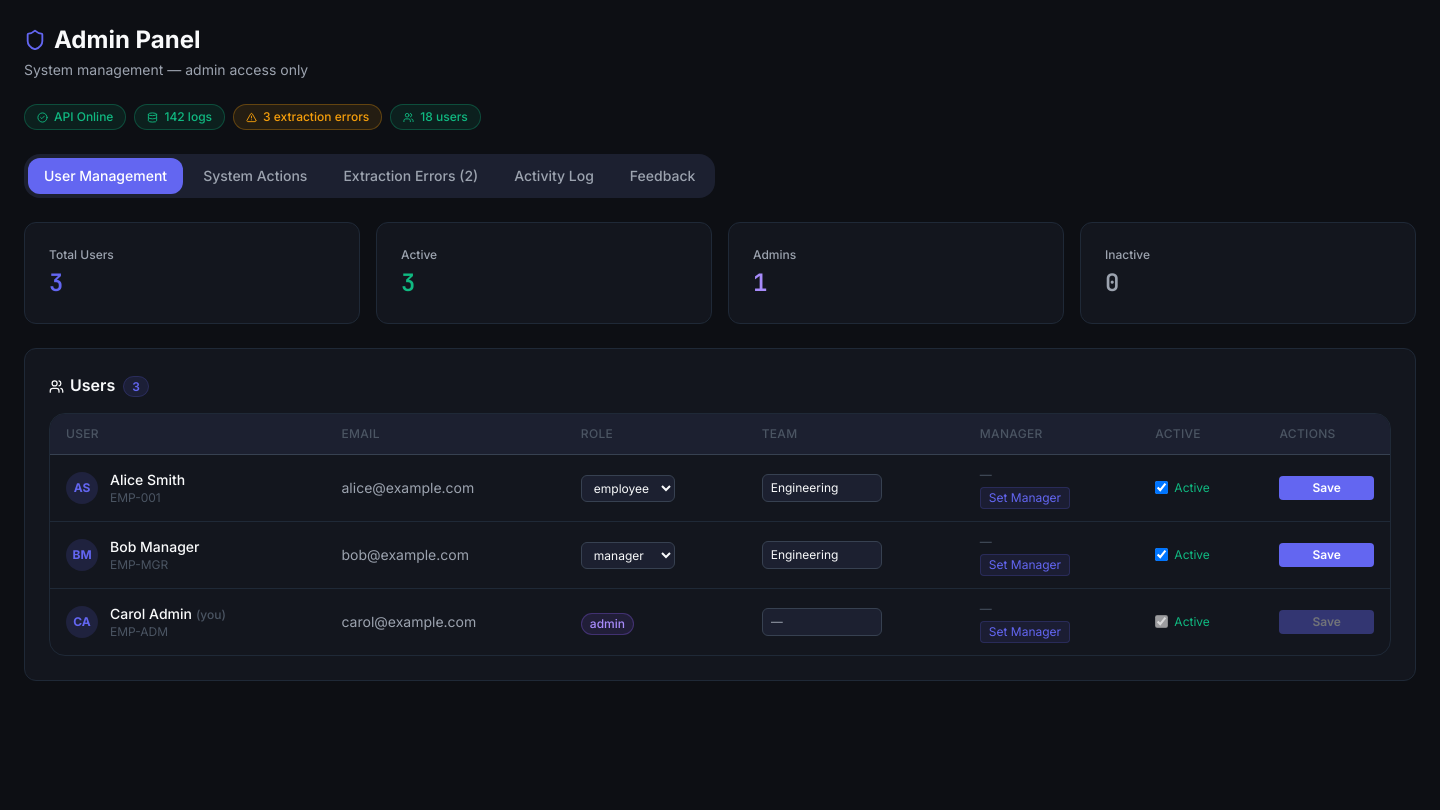
AdminPage — System Actions tab › renders Seed Dummy Data section after clicking tab
Click the button "System Actions".
click(255, 176)  # box [187, 158, 323, 194]
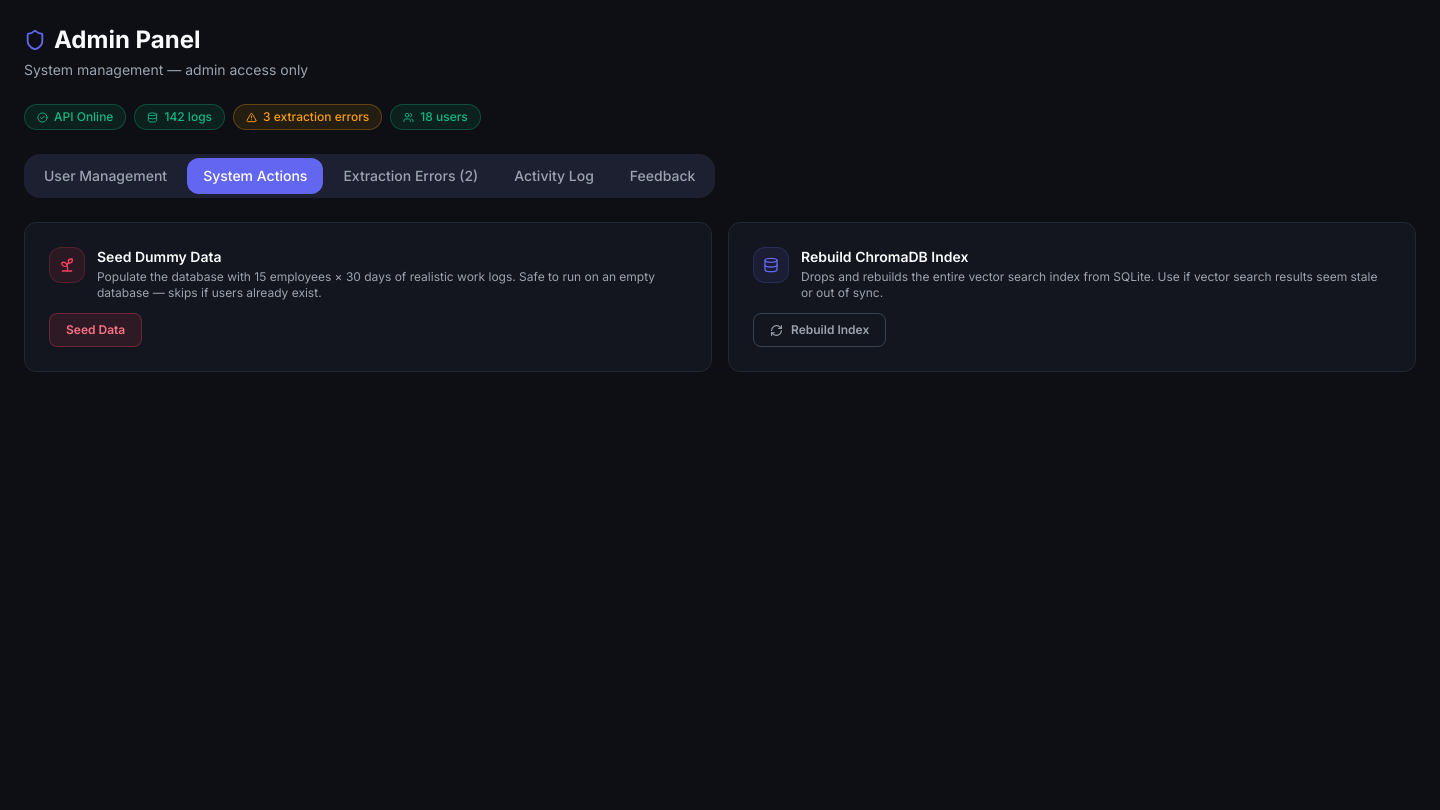
Expected: the button "Seed Data" is shown, [49, 313, 142, 347]
